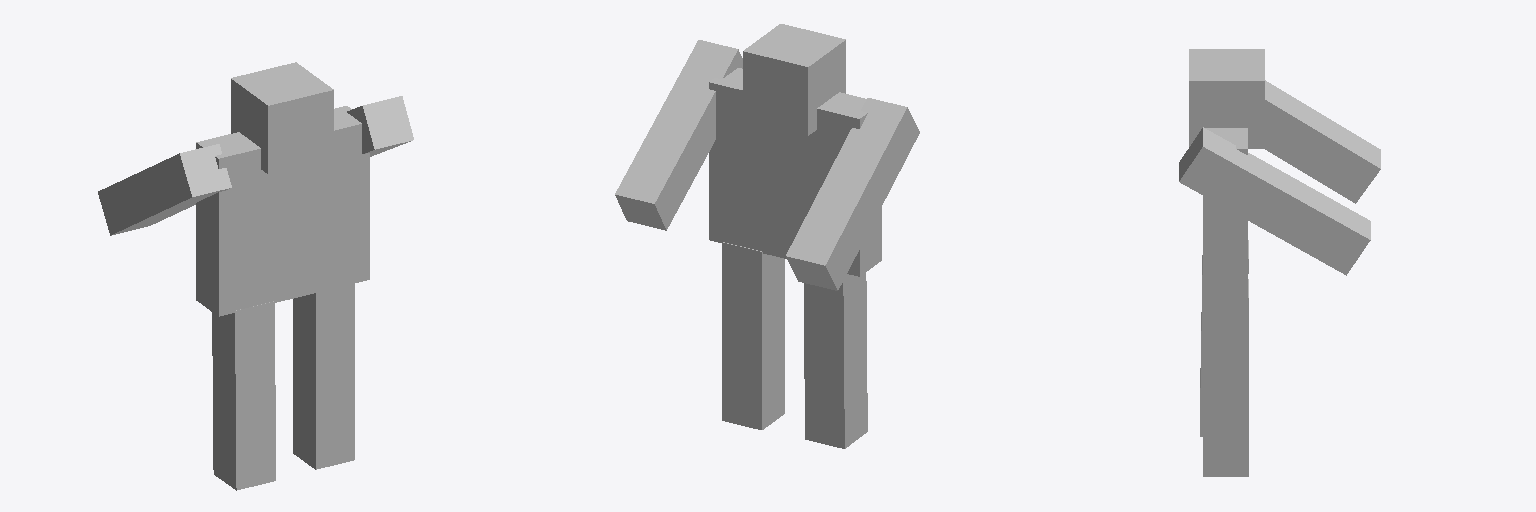
Rendered from zombie0036.obj.
3 renders of one model, left to right at view 1: azimuth 30°, elevation 25°; view 2: azimuth 150°, elevation 25°; view 3: azimuth 270°, elevation 25°, orthographic.
Parts seen in each view (by area): view 1: Cube, Cube.004, Cube.005, Cube.001, Cube.002, Cube.003; view 2: Cube, Cube.002, Cube.005, Cube.003, Cube.004, Cube.001; view 3: Cube.003, Cube.005, Cube.002, Cube.001, Cube.
Part boxes in pixels (x1,y1,x2,y2): Cube: (196, 106, 369, 316); Cube.004: (212, 301, 275, 490); Cube.005: (293, 282, 354, 469); Cube.001: (231, 62, 333, 174); Cube.002: (98, 144, 231, 235); Cube.003: (347, 96, 413, 156); Cube: (709, 68, 881, 276); Cube.002: (786, 98, 919, 290); Cube.005: (722, 242, 784, 429); Cube.003: (615, 40, 742, 230); Cube.004: (804, 273, 867, 448); Cube.001: (743, 24, 845, 135); Cube.003: (1179, 127, 1370, 275); Cube.005: (1203, 279, 1248, 476); Cube.002: (1265, 80, 1380, 203); Cube.001: (1189, 49, 1264, 148); Cube: (1203, 128, 1247, 306).
Bounding box in the file's own units: 2.86 × 4.85 × 2.32.